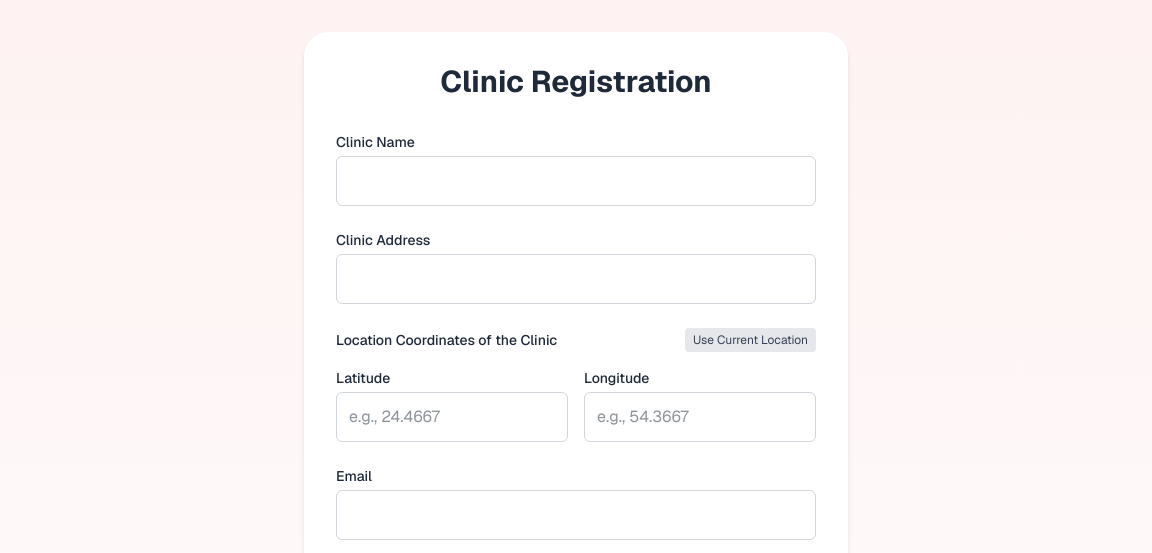
Test: Clinic Registration Flow › validates coordinate inputs correctly
# Test invalid latitude
Type "91" into the field labelled "Latitude". click: (452,417)
box: [336,392,568,442]
(page scrolled)
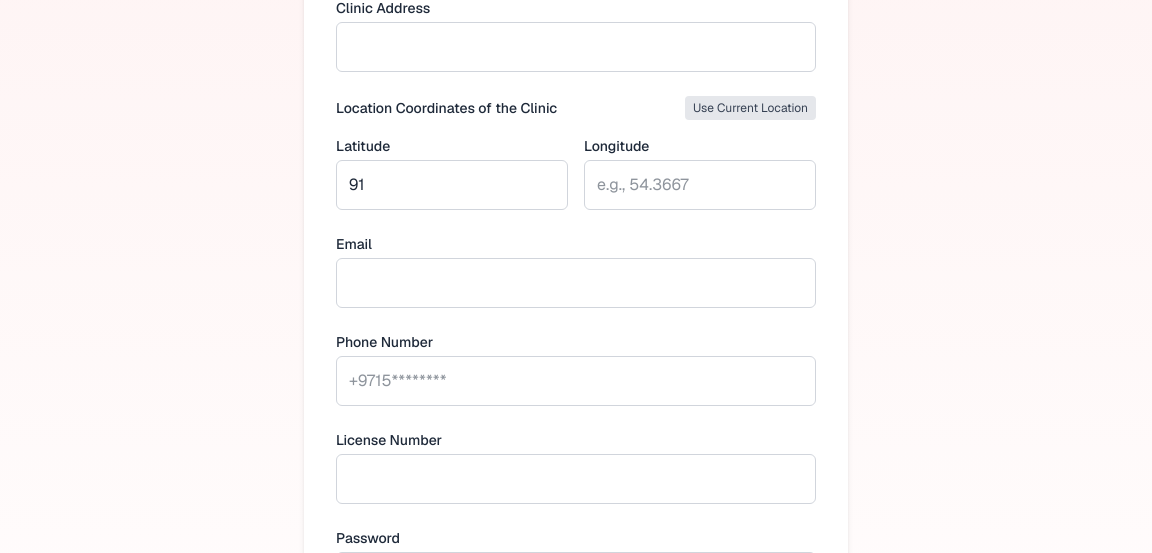
Submit the form
(page scrolled)
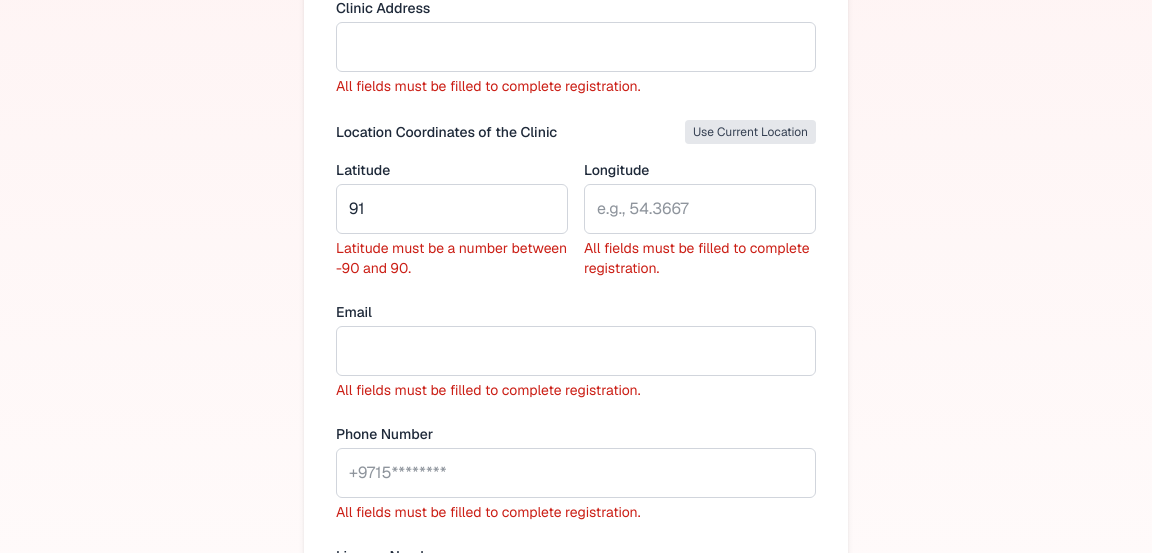
Check: the text "Latitude must be a number between -90 and 90." is shown, box [336,238,568,278]
# Test invalid longitude
Type "181" into the field labelled "Longitude". click: (700,209)
box: [584,184,816,234]
(page scrolled)
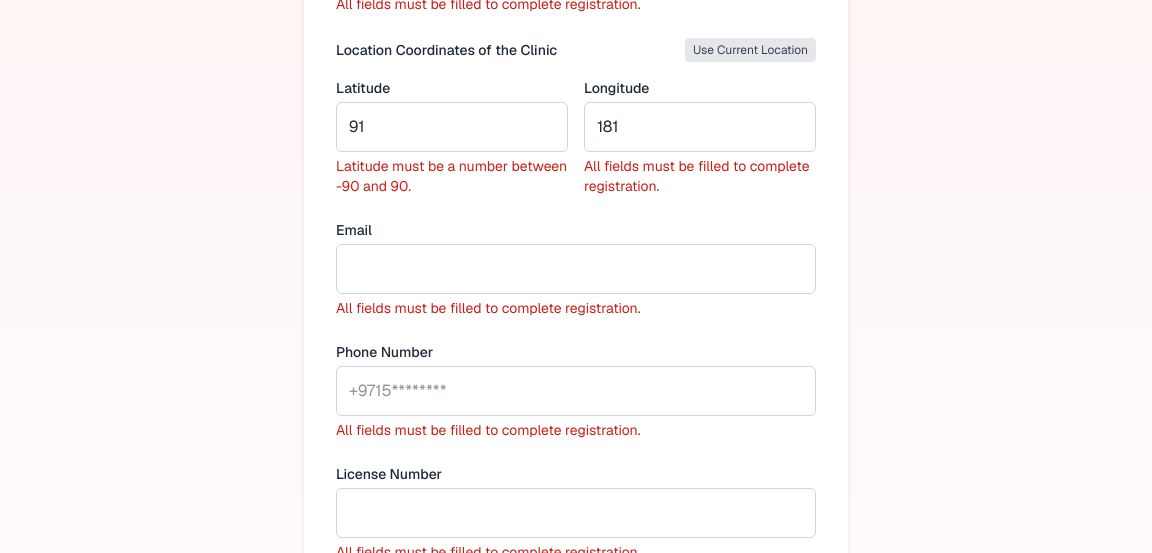
Submit the form
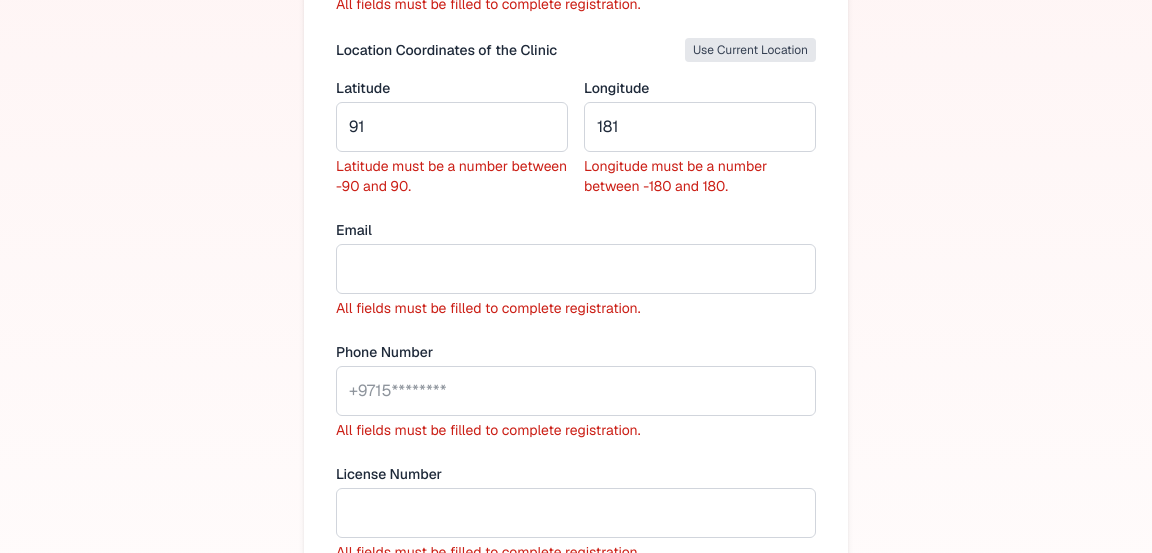
Check: the text "Longitude must be a number between -180 and 180." is shown, box [584,157,767,195]
